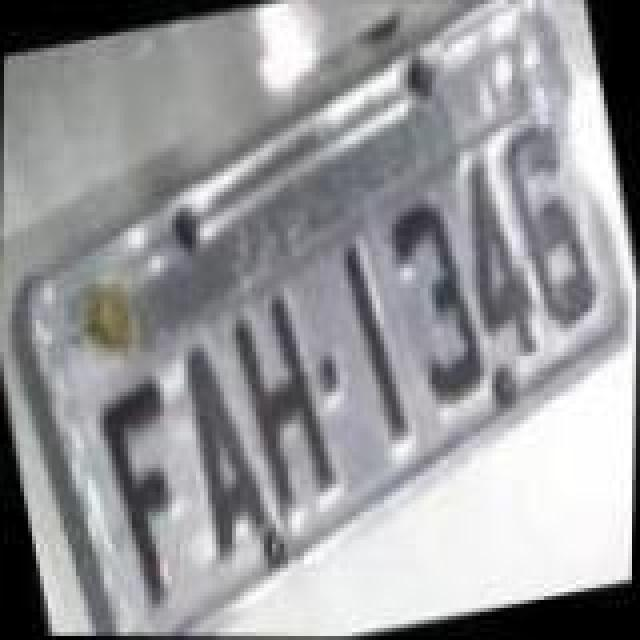1: (330, 236, 418, 448)
3: (376, 198, 492, 410)
4: (442, 148, 550, 368)
6: (494, 112, 610, 336)
A: (172, 332, 284, 556)
F: (90, 376, 210, 612)
H: (220, 288, 348, 516)
